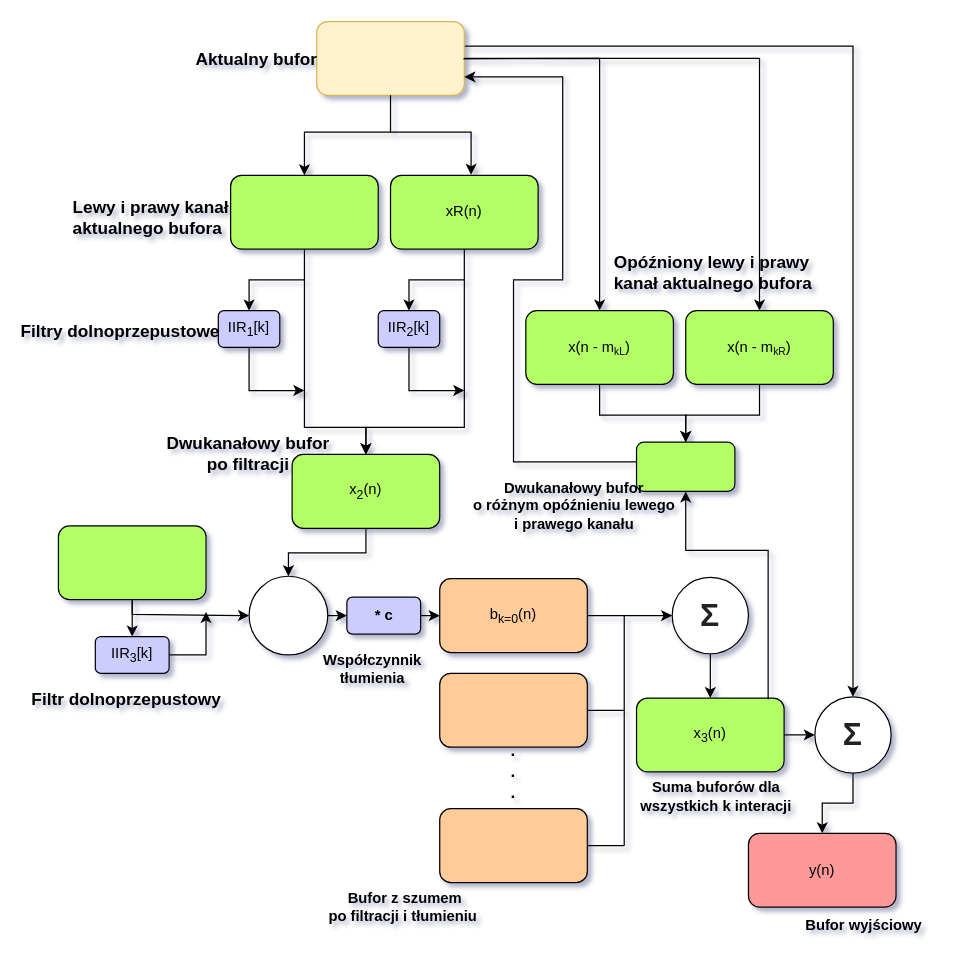
This 959x973 diagram has some shape labels left out. The shapes that lost their labels are listed below. From the top down, each one's centre as x and y in pixels, then its label:
At pixel 389 57: "x(n)".
At pixel 303 211: "xL(n)".
At pixel 685 466: "x 4 (n)".
At pixel 131 562: "szum biały".
At pixel 288 615: "mnożenie buforów".
At pixel 512 709: "b k=1 (n)".
At pixel 512 845: "b k=nl (n)".
